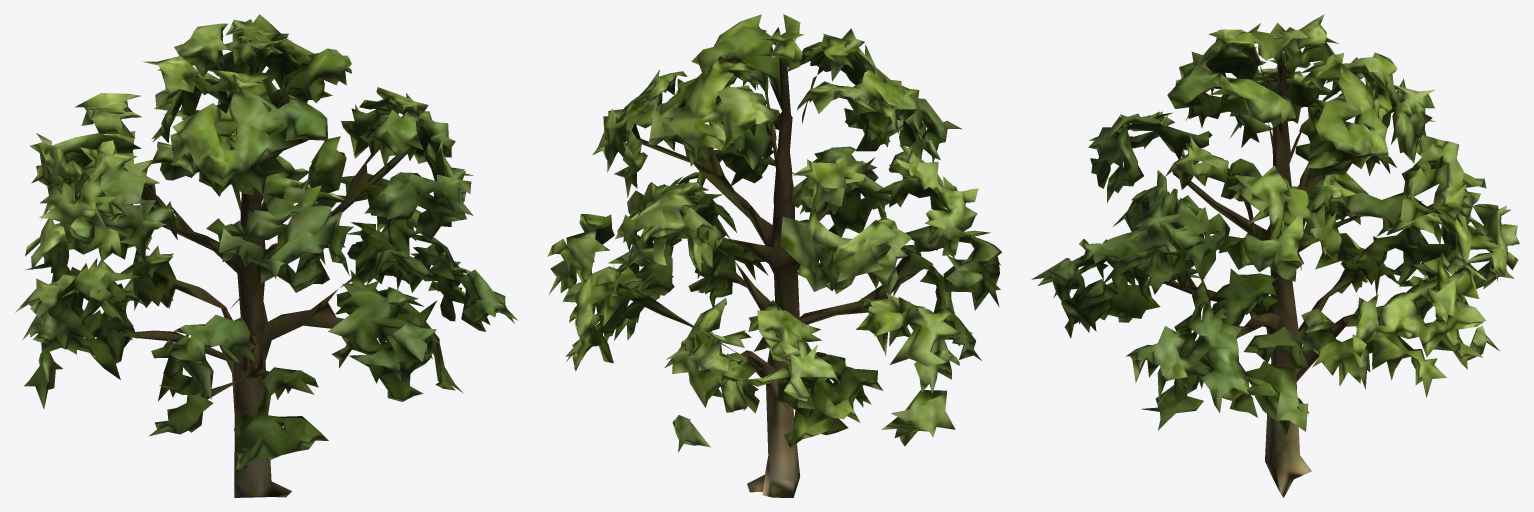
File: baum_laub.glb
3 renders of one model, left to right at view 1: azimuth 30°, elevation 25°; view 2: azimuth 150°, elevation 25°; view 3: azimuth 270°, elevation 25°, orthographic. The views are drawn at different scales.
Parts seen in each view (by area): view 1: tripo_node_8891900c-1151-4563-bfc5-ad5e91655b8c; view 2: tripo_node_8891900c-1151-4563-bfc5-ad5e91655b8c; view 3: tripo_node_8891900c-1151-4563-bfc5-ad5e91655b8c.
Part boxes in pixels (<box>): tripo_node_8891900c-1151-4563-bfc5-ad5e91655b8c: <box>15,14,517,497</box>; tripo_node_8891900c-1151-4563-bfc5-ad5e91655b8c: <box>547,14,1002,497</box>; tripo_node_8891900c-1151-4563-bfc5-ad5e91655b8c: <box>1031,14,1519,497</box>.
Bounding box in the file's own units: 0.9018 × 0.9927 × 0.9705.
Materials: 1 (1 with a texture image).
